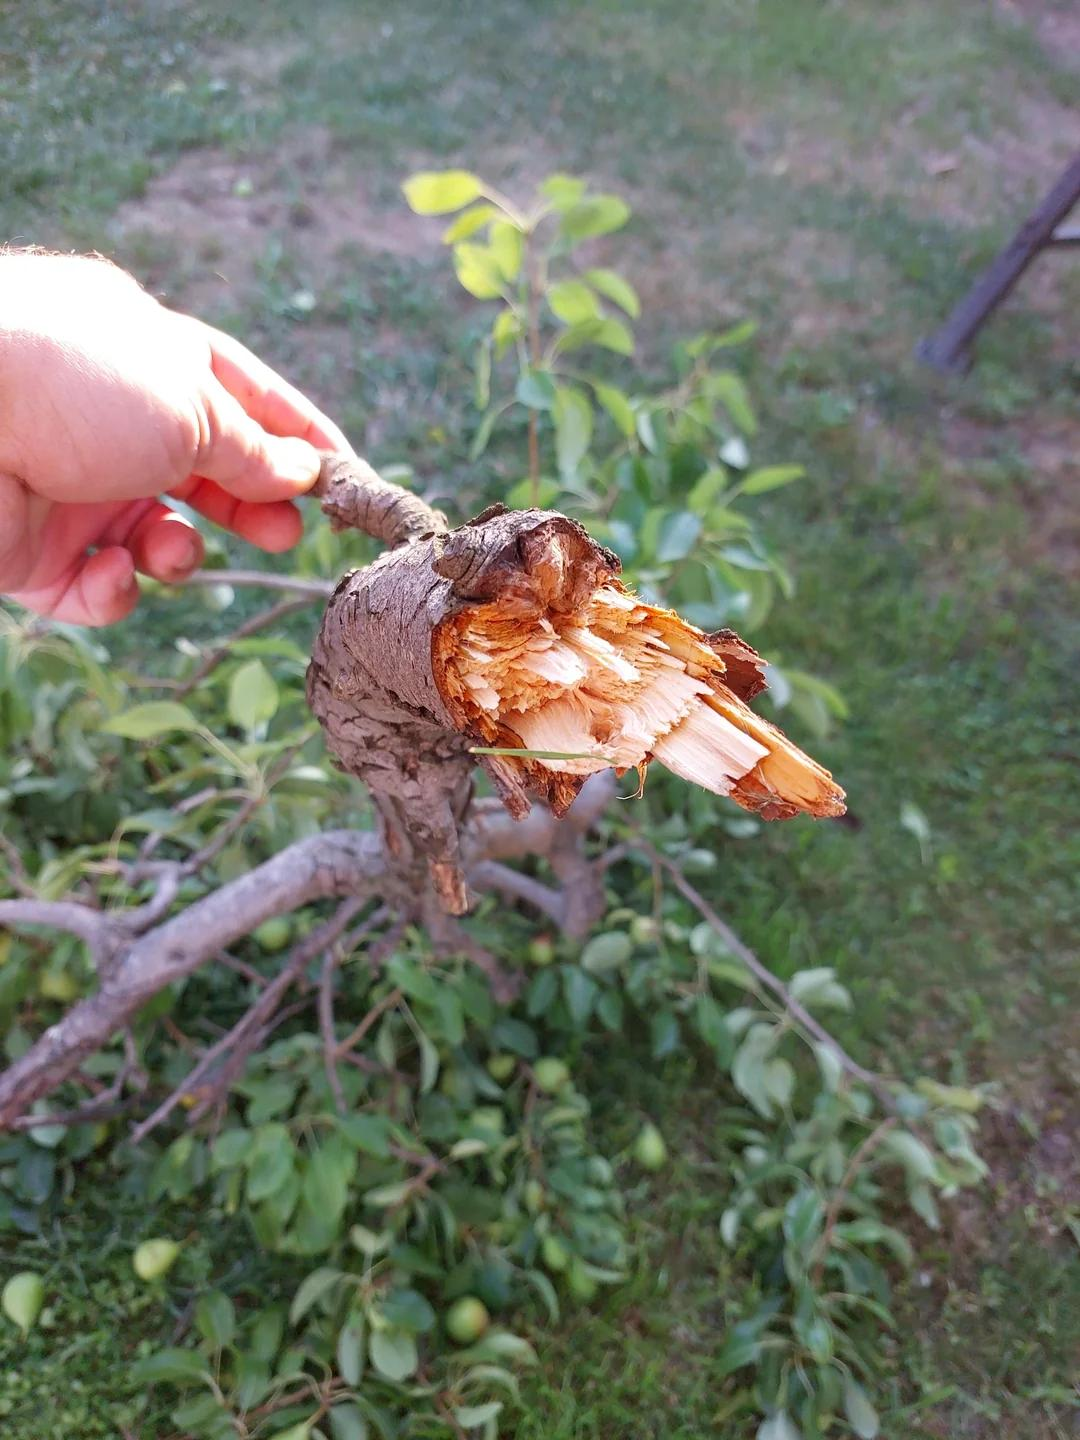mechanical damage: (438, 533, 841, 813)
